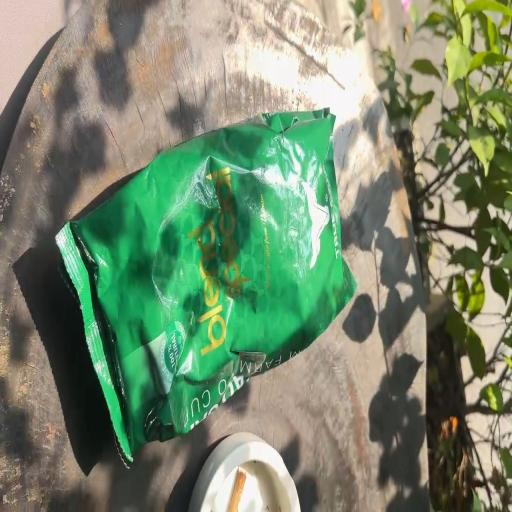cafe_xay: (56, 109, 355, 461)
